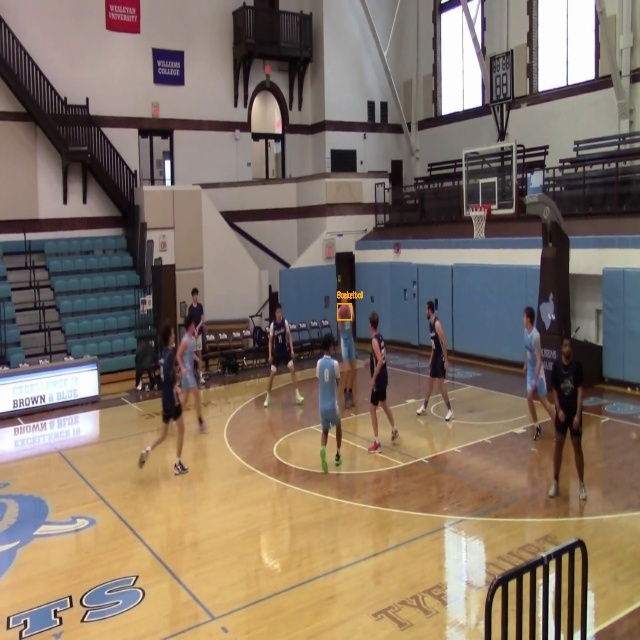Basketball: (337, 303, 352, 320)
